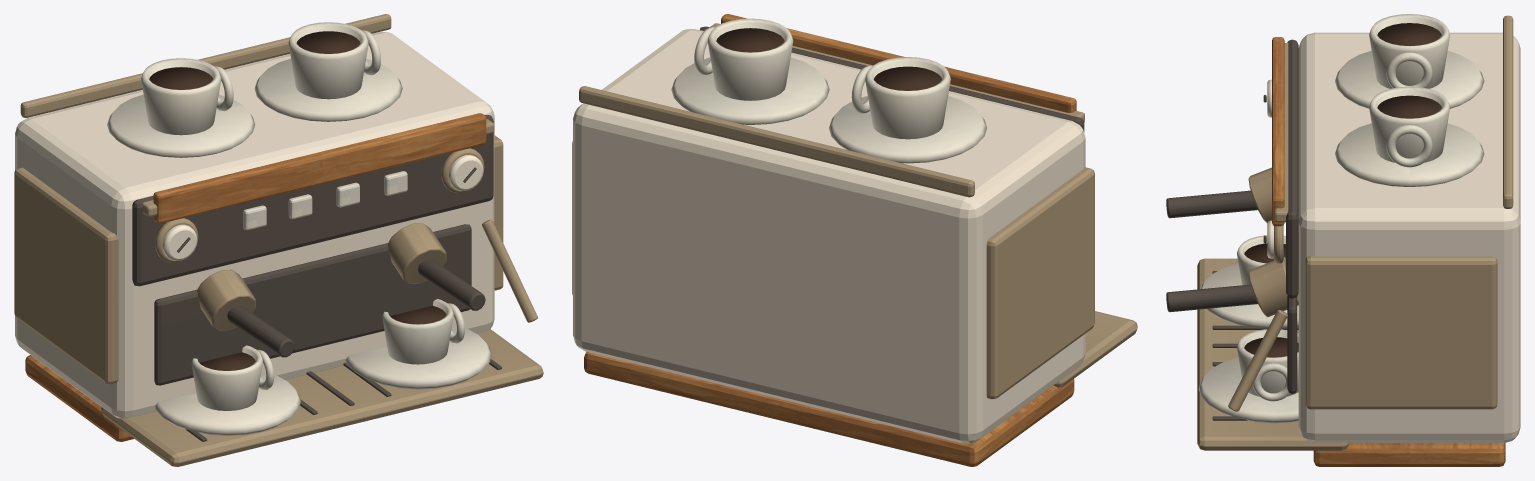
Rendered from WC_CAFE_Espresso_A.glb.
3 views of the same model, side by side, from view 1: azimuth 30°, elevation 25°; view 2: azimuth 150°, elevation 25°; view 3: azimuth 270°, elevation 25° (orthographic). The views are drawn at different scales.
Parts seen in each view (by area): view 1: WC_CAFE_Espresso_A_HeroServiceMesh; view 2: WC_CAFE_Espresso_A_HeroServiceMesh; view 3: WC_CAFE_Espresso_A_HeroServiceMesh.
Boxes of the visible parts, box(x1,y1,x2,y2) form: WC_CAFE_Espresso_A_HeroServiceMesh: box(14, 14, 543, 466); WC_CAFE_Espresso_A_HeroServiceMesh: box(572, 14, 1137, 466); WC_CAFE_Espresso_A_HeroServiceMesh: box(1166, 14, 1520, 466).
Size of the model in its own units: 0.918 by 0.6818 by 0.7019.
Materials: 7 (2 with a texture image).
